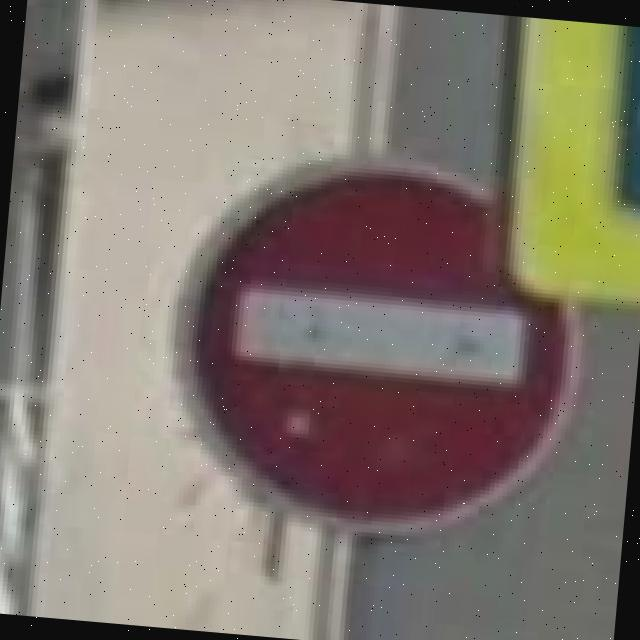Zakaz wjazdu: (154, 140, 600, 550)
